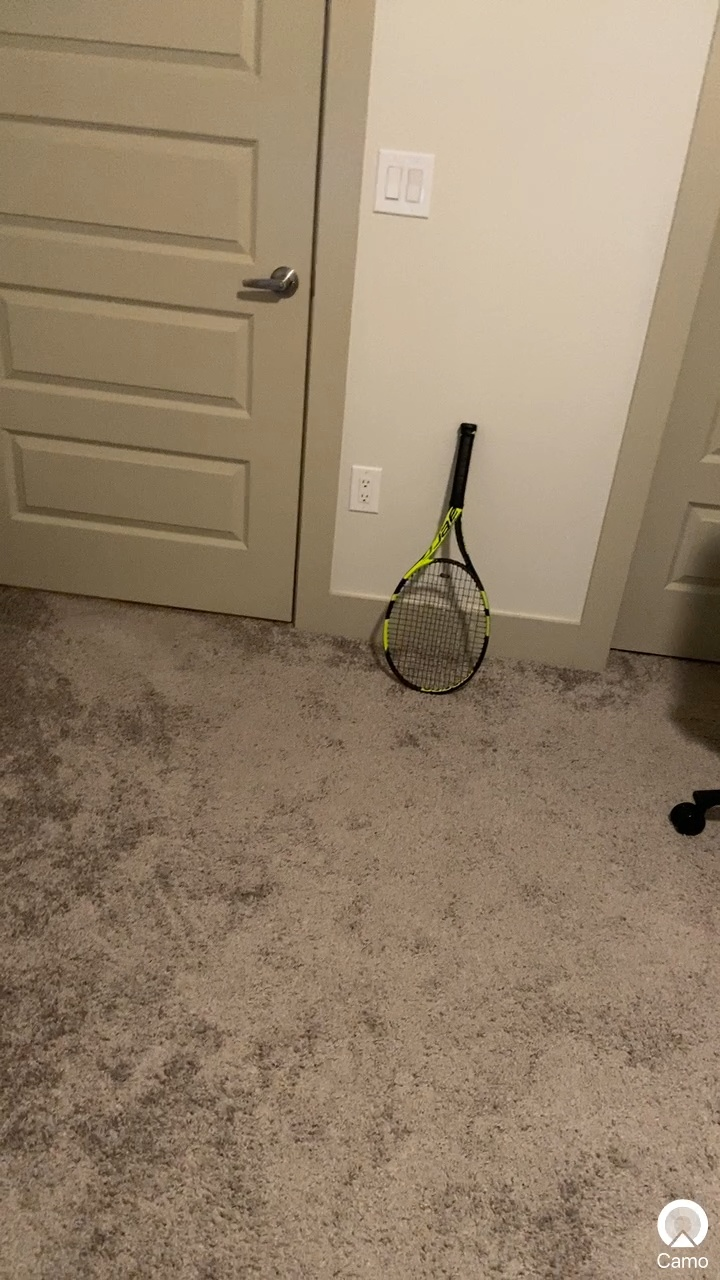Tennis_Racquet: (378, 402, 502, 707)
